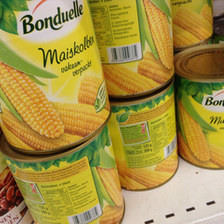corn: (1, 1, 112, 156), (4, 127, 128, 224), (88, 1, 177, 98), (104, 83, 180, 191), (171, 44, 224, 170)
